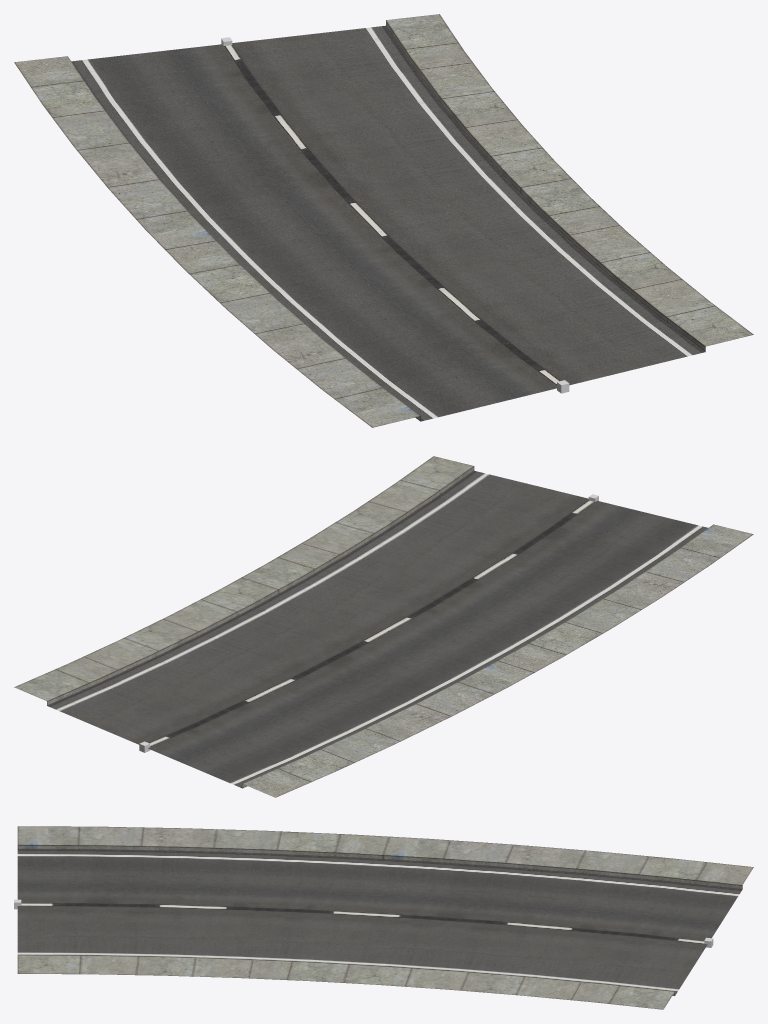
Rendered from roadBend15.R.fbx.
3 renders of one model, top to bottom at view 1: azimuth 30°, elevation 25°; view 2: azimuth 150°, elevation 25°; view 3: azimuth 270°, elevation 25°, orthographic. The views are drawn at different scales.
Visible parts, largest first — view 1: MESH roadBend15.R; view 2: MESH roadBend15.R; view 3: MESH roadBend15.R.
Part boxes in pixels (left/top/right/bottom): MESH roadBend15.R: left=14, top=14, right=753, bottom=427; MESH roadBend15.R: left=14, top=456, right=753, bottom=797; MESH roadBend15.R: left=17, top=826, right=753, bottom=1009.
Size of what is drawn, in the model's own units: 2984 by 58.34 by 5081.
